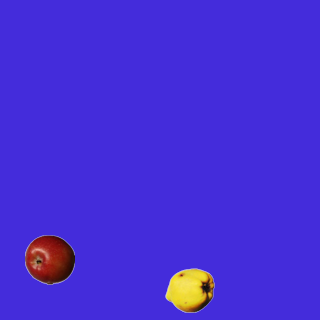Apple Braeburn: (24, 234, 74, 284)
Quince: (164, 265, 214, 315)
